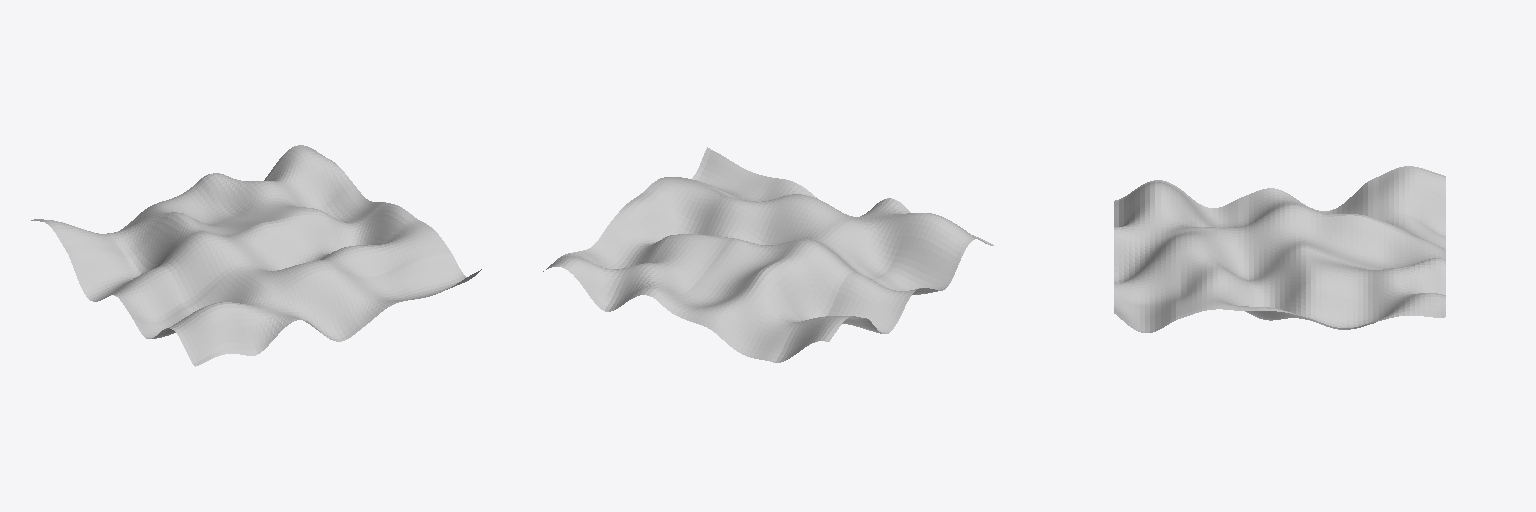
Rendered from land.obj.
3 renders of one model, left to right at view 1: azimuth 30°, elevation 25°; view 2: azimuth 150°, elevation 25°; view 3: azimuth 270°, elevation 25°, orthographic.
Visible parts, largest first — view 1: Plane; view 2: Plane; view 3: Plane.
Boxes of the visible parts, x1,y1,x2,y2 form: Plane: [31, 145, 481, 366]; Plane: [543, 147, 993, 362]; Plane: [1114, 166, 1445, 332].
Bounding box in the file's own units: 79.31 × 14.61 × 79.31.